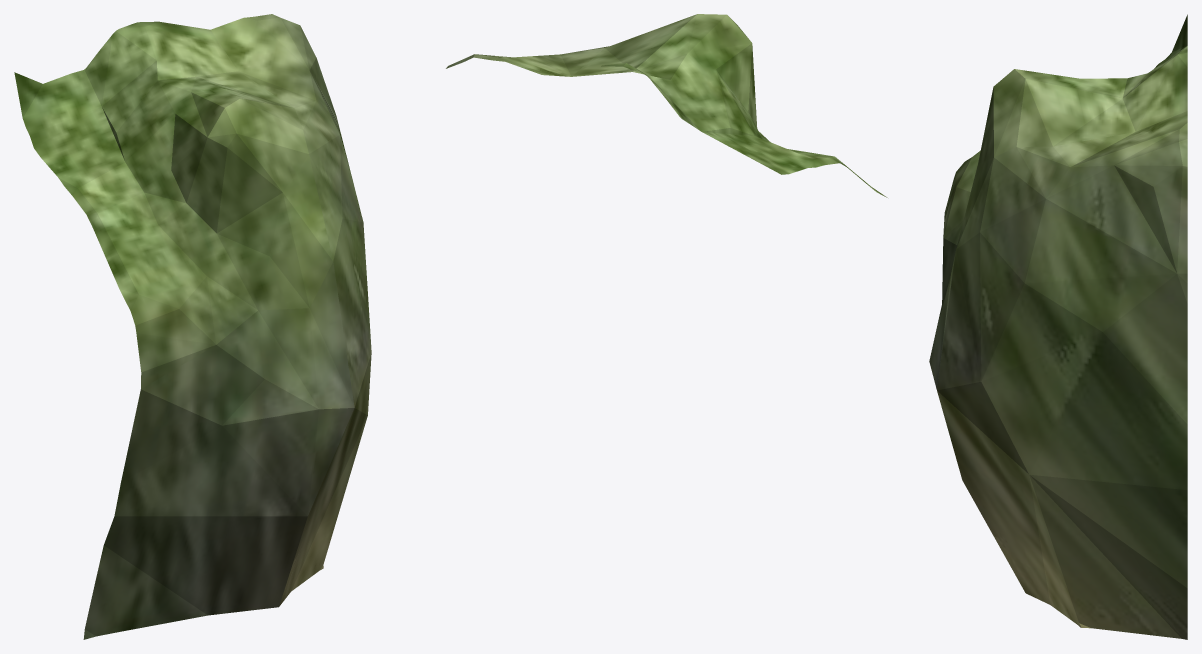
3 views of the same model, side by side, from view 1: azimuth 30°, elevation 25°; view 2: azimuth 150°, elevation 25°; view 3: azimuth 270°, elevation 25° (orthographic). The views are drawn at different scales.
Bounding box in the file's own units: 1.24 × 1.96 × 0.8938.
1 material, 1 textured.
